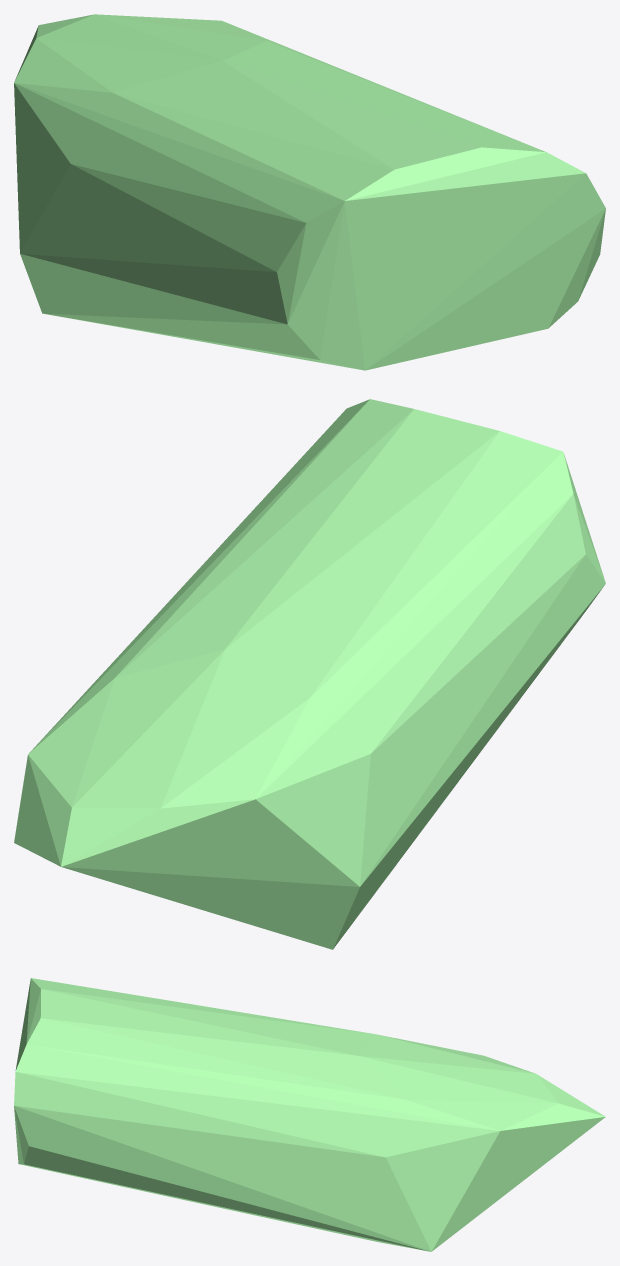
File: franka_link6resp_coll_2.dae
The picture shows the model from 3 angles, top to bottom: view 1: azimuth 30°, elevation 25°; view 2: azimuth 150°, elevation 25°; view 3: azimuth 270°, elevation 25°; orthographic projection. The views are drawn at different scales.
Visible parts, largest first — view 1: node; view 2: node; view 3: node.
Part boxes in pixels (x1,y1,x2,y2): node: (14,14,605,370); node: (14,399,605,949); node: (14,978,605,1251).
Size of the model in its own units: 0.0678 by 0.0612 by 0.1484.
